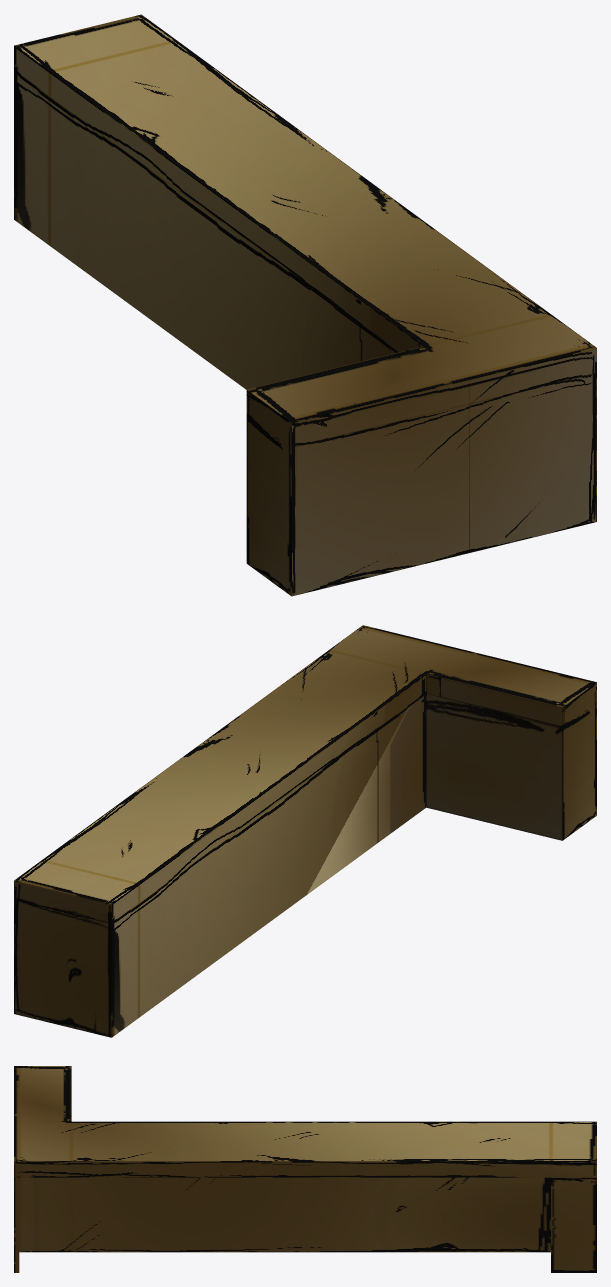
File: Bartable.glb
3 renders of one model, top to bottom at view 1: azimuth 30°, elevation 25°; view 2: azimuth 150°, elevation 25°; view 3: azimuth 270°, elevation 25°, orthographic. The views are drawn at different scales.
Parts seen in each view (by area): view 1: barCounter; view 2: barCounter; view 3: barCounter.
Boxes of the visible parts, x1,y1,x2,y2 form: barCounter: (14, 14, 596, 596); barCounter: (14, 625, 596, 1037); barCounter: (14, 1066, 596, 1272).
Bounding box in the file's own units: 2.42 × 1.32 × 6.26.
Materials: 1 (1 with a texture image).
